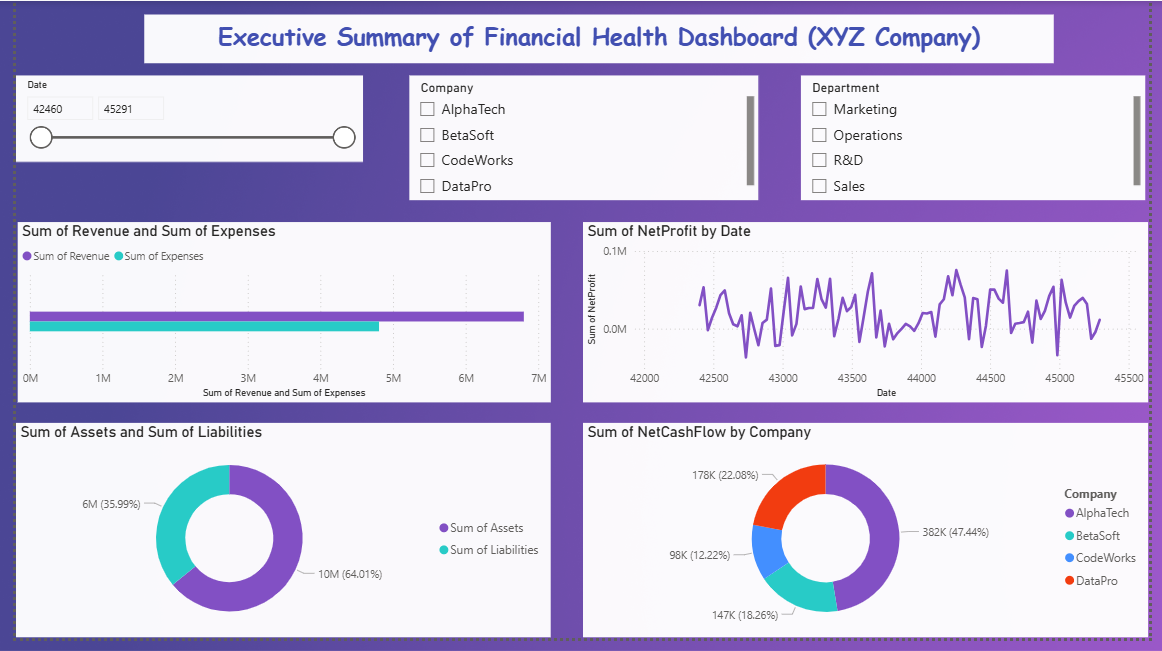

The dashboard page shown, as its layout file describes it:
{"tool":"powerbi","page":{"name":"Page 1","canvas":[1280,720],"ordinal":0},"visuals":[{"type":"textbox","box":[145,15.3,1028.2,55.3],"z":0},{"type":"clusteredBarChart","fields":{"Y":["Sum(IncomeStatement.Revenue)","Sum(IncomeStatement.Expenses)"]},"box":[1.9,249.9,602.8,204.1],"z":1000},{"type":"lineChart","fields":{"Category":["IncomeStatement.Date"],"Y":["Sum(IncomeStatement.NetProfit)"]},"box":[641,249.9,639,204.1],"z":2000},{"type":"donutChart","fields":{"Y":["Sum(BalanceSheet.Assets)","Sum(BalanceSheet.Liabilities)"]},"box":[0,476.9,604.7,242.3],"z":3000},{"type":"donutChart","fields":{"Y":["Sum(CashFlow.NetCashFlow)"]},"box":[641,476.9,639,242.3],"z":4000},{"type":"slicer","fields":{"Values":["BalanceSheet.Date"]},"box":[0,84,392,98],"z":5000},{"type":"slicer","fields":{"Values":["CashFlow.Company"]},"box":[444.5,83.9,394.9,141.2],"z":6000},{"type":"slicer","fields":{"Values":["IncomeStatement.Department"]},"box":[887,83.9,389.2,141.2],"z":7000}]}

Visuals, with their boxes in screenshot pixels (x1, y1, x2, y2), scaled from the page's 1280x720 canvas onto the 1162x651 screenshot:
textbox: <box>132,14,1065,64</box>
clusteredBarChart - Sum(IncomeStatement.Revenue) x Sum(IncomeStatement.Expenses): <box>2,226,549,410</box>
lineChart - IncomeStatement.Date x Sum(IncomeStatement.NetProfit): <box>582,226,1161,410</box>
donutChart - Sum(BalanceSheet.Assets) x Sum(BalanceSheet.Liabilities): <box>0,431,549,650</box>
donutChart - Sum(CashFlow.NetCashFlow): <box>582,431,1161,650</box>
slicer - BalanceSheet.Date: <box>0,76,356,165</box>
slicer - CashFlow.Company: <box>404,76,762,204</box>
slicer - IncomeStatement.Department: <box>805,76,1159,204</box>
